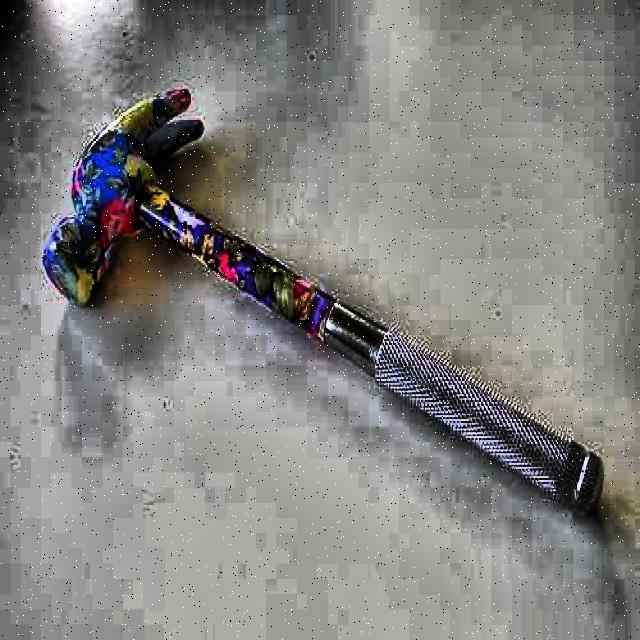hammer: (40, 85, 604, 516)
